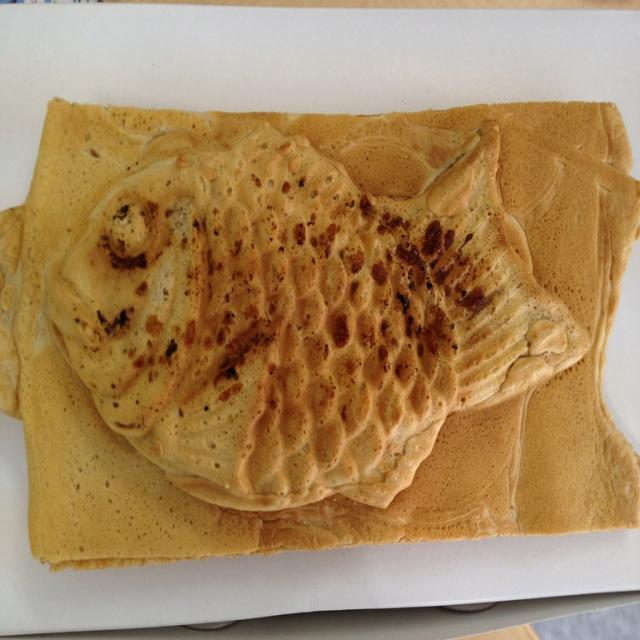Bread: (0, 96, 639, 578)
